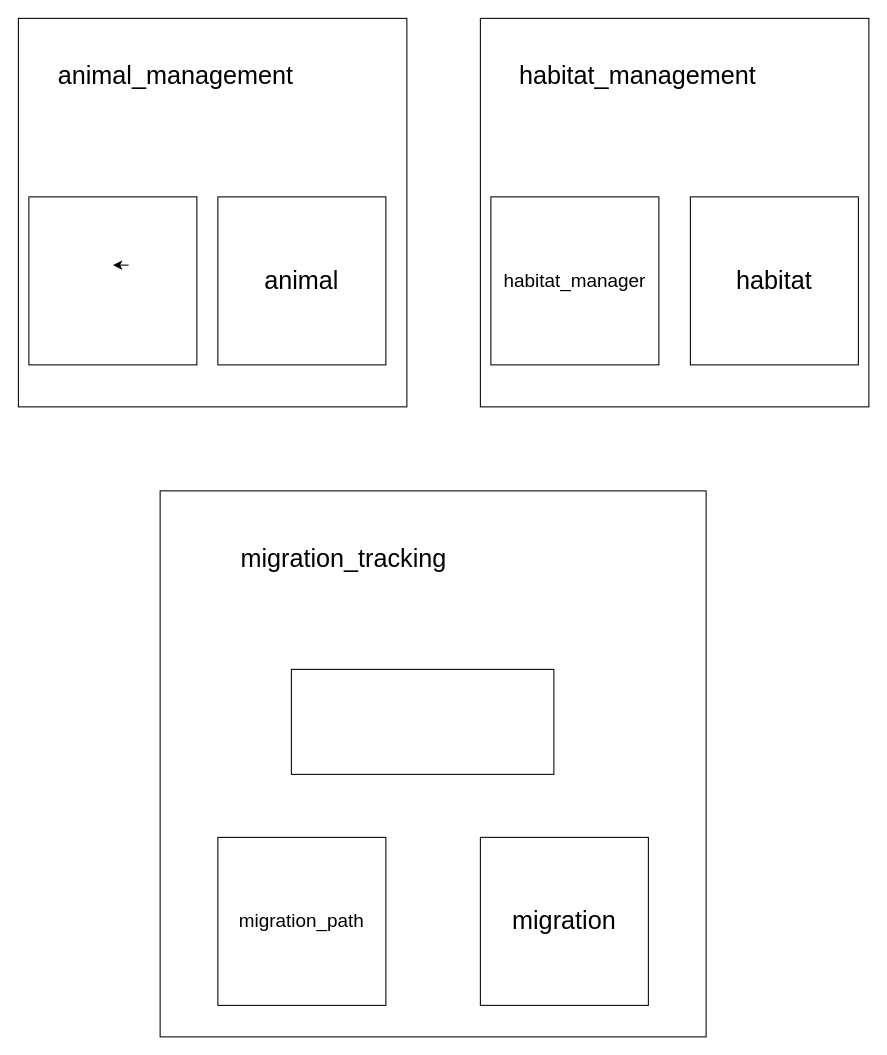
Image size: 887x1055. Some labels were removed from this diagram. Here are the shapes that lost their labels. From the top down, the centre of each, then its label:
At pixel 112 280: "animal_manager".
At pixel 422 721: "migration_management".
